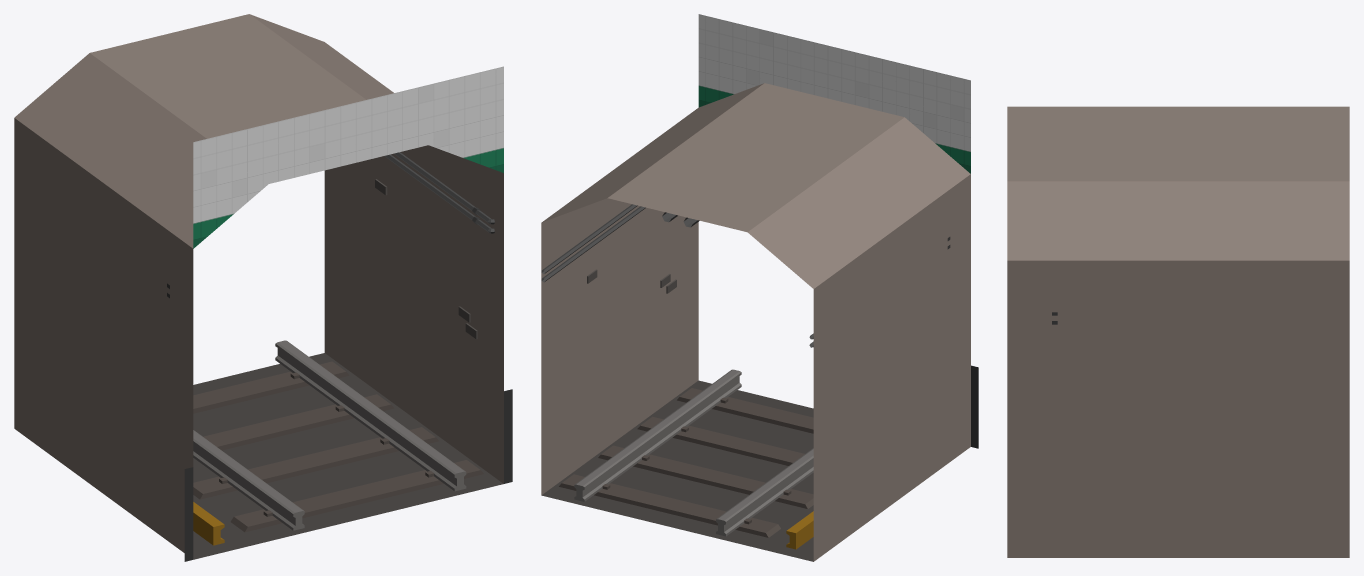
The model's file is SM_Train_Track_Underground_Single_Tunnel_Start.fbx.
3 views of the same model, side by side, from view 1: azimuth 30°, elevation 25°; view 2: azimuth 150°, elevation 25°; view 3: azimuth 270°, elevation 25° (orthographic). The views are drawn at different scales.
Parts seen in each view (by area): view 1: SM_Train_Track_Underground_Single_Tunnel_Start; view 2: SM_Train_Track_Underground_Single_Tunnel_Start; view 3: SM_Train_Track_Underground_Single_Tunnel_Start.
Boxes of the visible parts, bbox=[...] form: SM_Train_Track_Underground_Single_Tunnel_Start: bbox=[14, 14, 512, 561]; SM_Train_Track_Underground_Single_Tunnel_Start: bbox=[541, 14, 978, 561]; SM_Train_Track_Underground_Single_Tunnel_Start: bbox=[1007, 106, 1349, 557].
Size of the model in its own units: 370 by 450 by 350.
